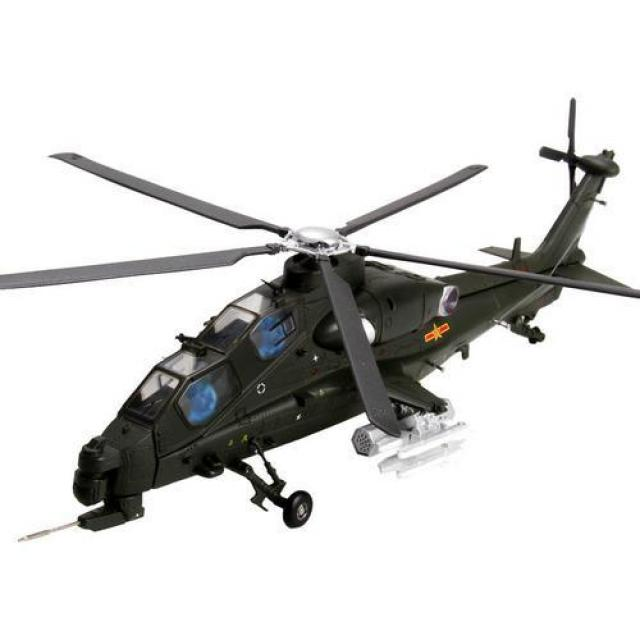MIL_HELO: (40, 101, 640, 555)
